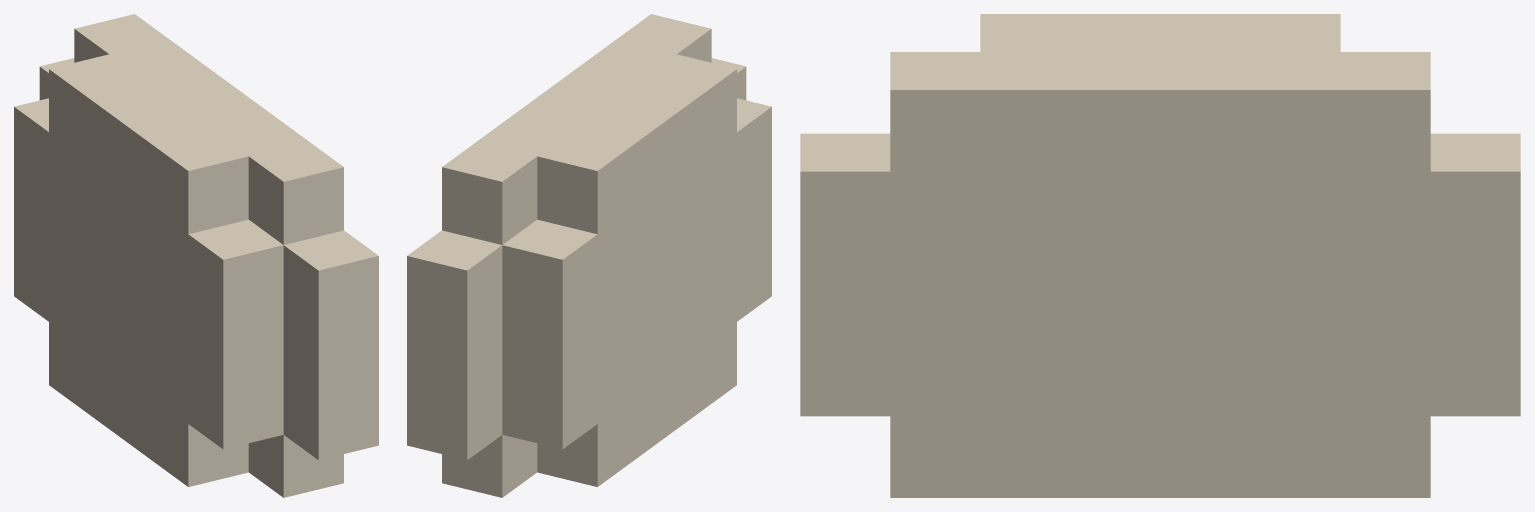
The model's file is chicken__wing_l.glb.
3 views of the same model, side by side, from view 1: azimuth 30°, elevation 25°; view 2: azimuth 150°, elevation 25°; view 3: azimuth 270°, elevation 25° (orthographic). The views are drawn at different scales.
Visible parts, largest first — view 1: chicken__wing_l; view 2: chicken__wing_l; view 3: chicken__wing_l.
Part boxes in pixels (x1=…): chicken__wing_l: x1=14, y1=14, x2=378, y2=497; chicken__wing_l: x1=407, y1=14, x2=771, y2=497; chicken__wing_l: x1=800, y1=14, x2=1520, y2=497.
Bounding box in the file's own units: 0.2 × 0.5 × 0.8.
1 material, 1 textured.
